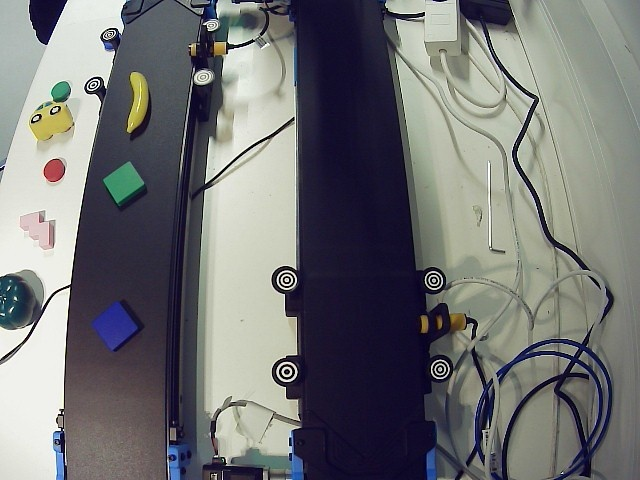Blue_Square: (90, 300, 142, 357)
Green_Square: (102, 160, 149, 210)
Unknown: (127, 72, 147, 133)
